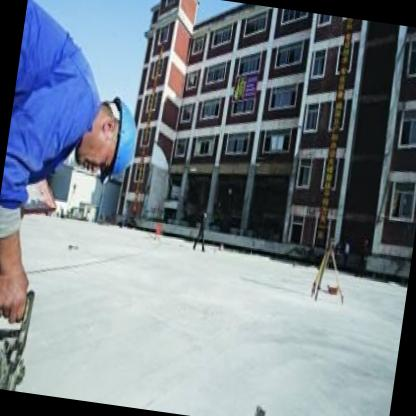helmet: (69, 88, 144, 180)
